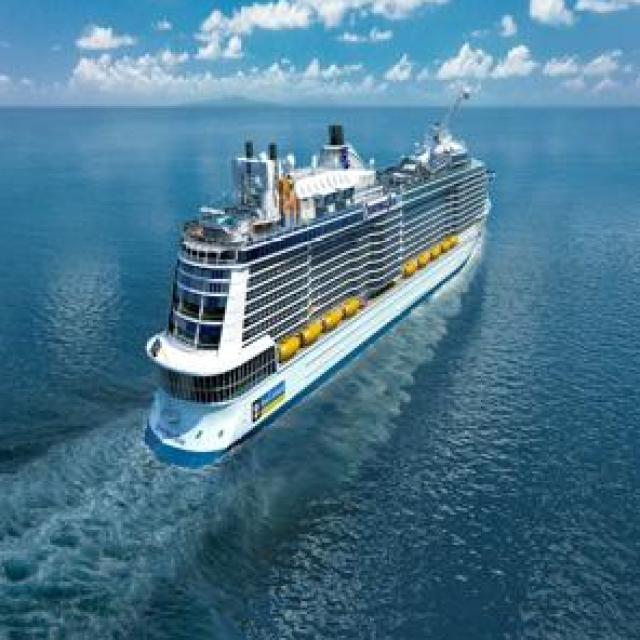passenger ship: (134, 103, 502, 451)
